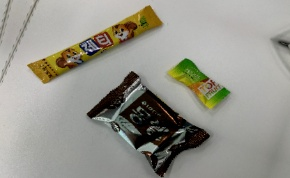jeli: (157, 48, 239, 116)
jt: (22, 0, 170, 116)
mon: (72, 58, 223, 178)
